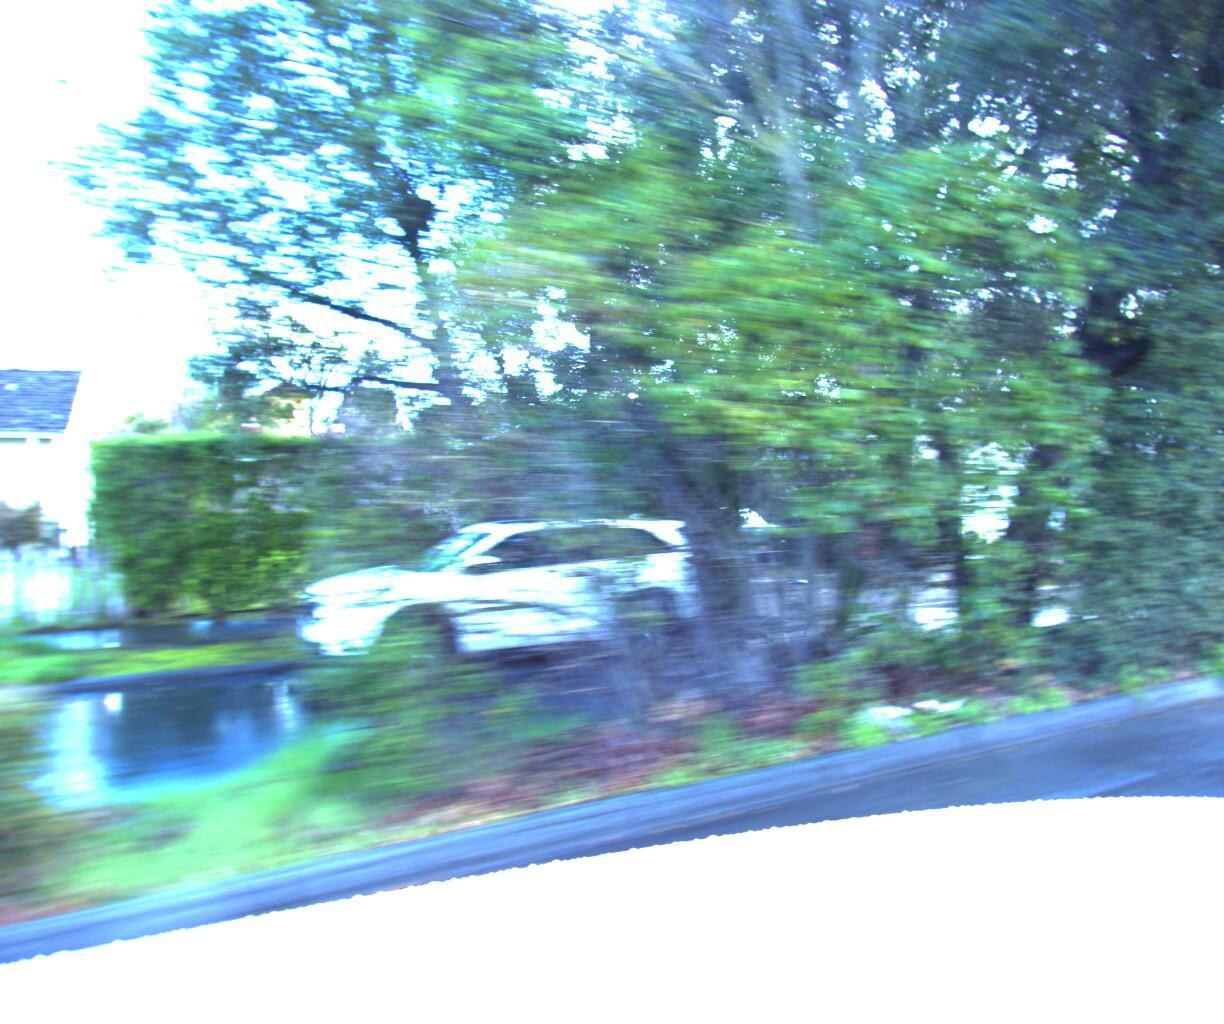car: (280, 513, 731, 703)
